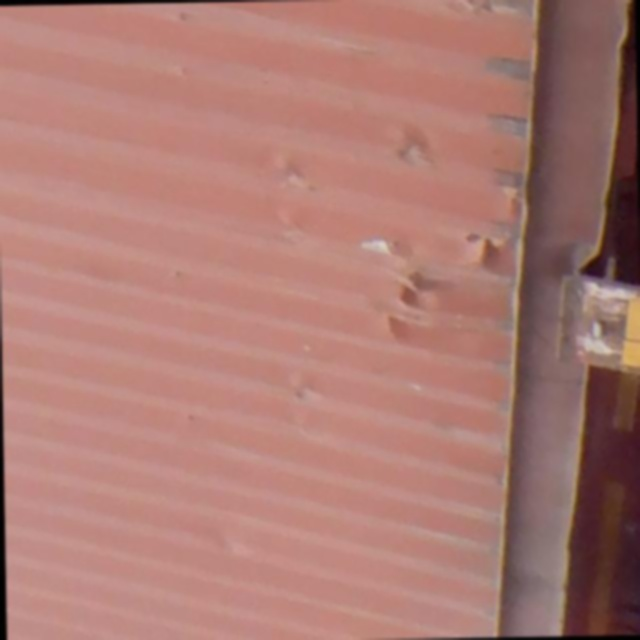Dent: (386, 253, 439, 368), (463, 216, 511, 283)
